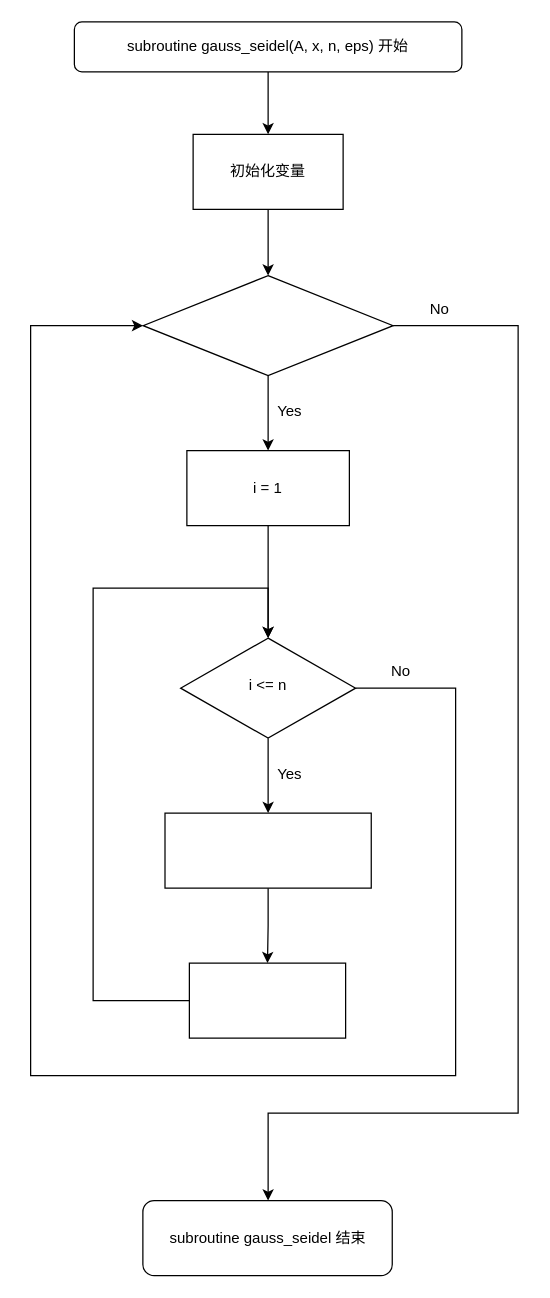
The diagram is 550 pixels wide and 1298 high, and some of its shapes have lost their labels. Each missing label, with the centre of its shape:
"i = i + 1" goes at point (267, 1000).
"maxval(abs(x - x_star)) > eps" goes at point (267, 325).
"计算x" goes at point (267, 850).
